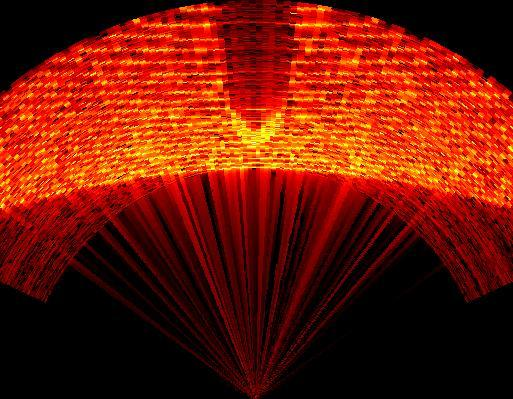box_crate: (212, 0, 305, 152)
